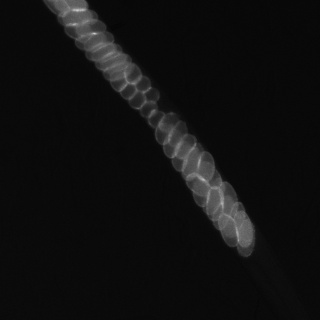embryo: (217, 214, 240, 248), (218, 182, 240, 217), (196, 161, 222, 190), (212, 197, 234, 231), (237, 221, 257, 258), (233, 211, 253, 247), (205, 186, 225, 220), (185, 172, 211, 197), (182, 146, 200, 180), (63, 7, 97, 25), (59, 8, 92, 26), (172, 141, 192, 170), (85, 31, 113, 51), (76, 19, 107, 37), (92, 44, 121, 63), (64, 23, 93, 42), (163, 131, 184, 157), (229, 202, 246, 234), (104, 62, 134, 80), (85, 43, 115, 60), (197, 152, 215, 180), (176, 134, 196, 159), (192, 180, 211, 206), (96, 52, 125, 69), (75, 34, 105, 50), (170, 121, 189, 146), (103, 54, 132, 70), (159, 112, 181, 132), (155, 123, 175, 144), (125, 63, 143, 84), (111, 70, 128, 92), (139, 101, 158, 118), (147, 111, 163, 128), (128, 92, 145, 108), (136, 76, 151, 91), (120, 84, 135, 99), (144, 88, 159, 101)
